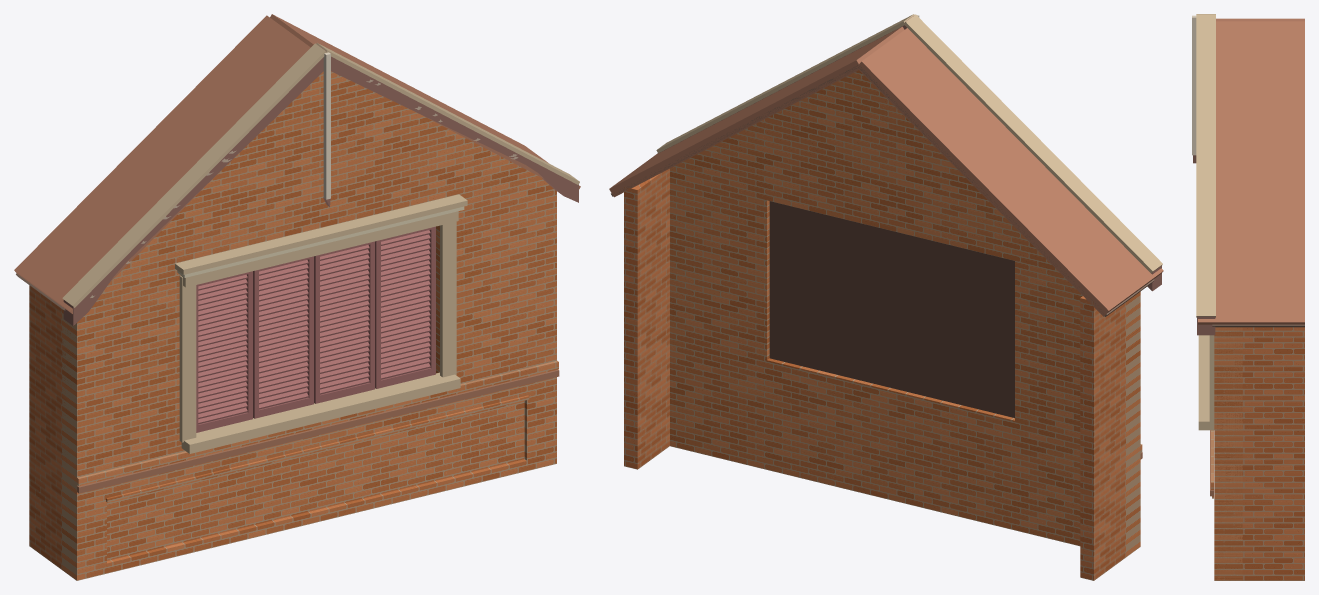
The model's file is pingjiang-no3-gable-far.glb.
The picture shows the model from 3 angles, left to right: view 1: azimuth 30°, elevation 25°; view 2: azimuth 150°, elevation 25°; view 3: azimuth 270°, elevation 25°; orthographic projection. The views are drawn at different scales.
Parts seen in each view (by area): view 1: 上海特别市市政府旧址3号楼砖山墙与四扇百叶; view 2: 上海特别市市政府旧址3号楼砖山墙与四扇百叶; view 3: 上海特别市市政府旧址3号楼砖山墙与四扇百叶.
Boxes of the visible parts, x1,y1,x2,y2 form: 上海特别市市政府旧址3号楼砖山墙与四扇百叶: (14, 14, 580, 580); 上海特别市市政府旧址3号楼砖山墙与四扇百叶: (609, 14, 1163, 580); 上海特别市市政府旧址3号楼砖山墙与四扇百叶: (1192, 14, 1304, 580).
Size of the model in its own units: 5.45 by 4.88 by 1.09.
12 materials, 2 textured.
